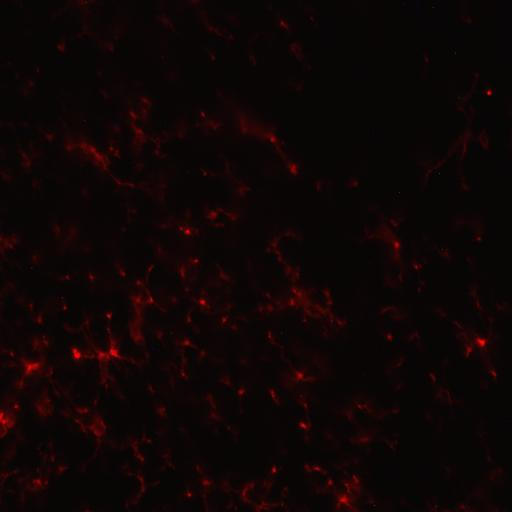microglia: (420, 118, 474, 183), (333, 391, 395, 445), (196, 152, 254, 195), (394, 240, 448, 277), (352, 120, 385, 154), (371, 189, 401, 222), (154, 12, 183, 41), (203, 203, 240, 225), (17, 358, 44, 388), (81, 142, 109, 170), (109, 171, 136, 190), (358, 252, 378, 276), (398, 2, 433, 14), (259, 291, 274, 312), (287, 160, 300, 178), (180, 350, 188, 377), (177, 335, 192, 348), (421, 54, 429, 76), (159, 53, 170, 68), (185, 306, 194, 323), (237, 388, 244, 408), (183, 226, 194, 238), (116, 265, 126, 277), (346, 178, 358, 188), (198, 349, 206, 363), (429, 372, 438, 383), (465, 345, 473, 357), (108, 348, 118, 357), (339, 494, 348, 504), (315, 180, 323, 191), (57, 42, 65, 52), (249, 55, 256, 66), (476, 338, 485, 346), (271, 464, 277, 474), (270, 390, 276, 400), (393, 241, 400, 249), (296, 372, 303, 380), (489, 370, 496, 378), (202, 479, 211, 485), (75, 352, 81, 359), (106, 312, 112, 318), (486, 90, 492, 96), (238, 389, 244, 395), (300, 422, 306, 428), (26, 364, 32, 370), (186, 170, 192, 176), (423, 55, 428, 62), (290, 298, 294, 306), (267, 330, 271, 338), (387, 334, 392, 340), (328, 479, 333, 485), (36, 478, 41, 484), (1, 418, 6, 424), (314, 466, 320, 471), (476, 236, 481, 241), (270, 137, 275, 142), (202, 171, 207, 176), (414, 264, 418, 269), (63, 305, 67, 310), (201, 112, 205, 117), (200, 300, 205, 304), (110, 46, 114, 51), (280, 20, 283, 26), (222, 318, 226, 322), (187, 492, 191, 496), (292, 289, 296, 293), (14, 404, 18, 408), (211, 56, 215, 60), (194, 258, 198, 262), (36, 68, 40, 72), (10, 352, 14, 356), (147, 438, 151, 442), (150, 297, 153, 302), (66, 275, 69, 280), (398, 191, 401, 195), (90, 276, 93, 280), (180, 227, 183, 230), (62, 296, 64, 298), (31, 267, 33, 269), (300, 395, 302, 397), (84, 120, 86, 122), (454, 52, 456, 54), (162, 56, 164, 58), (373, 504, 375, 506), (114, 124, 116, 126), (164, 120, 166, 122), (372, 130, 374, 132), (70, 153, 72, 155), (474, 90, 476, 92), (416, 4, 418, 6), (26, 130, 28, 132), (44, 233, 46, 235), (186, 170, 188, 172), (438, 172, 440, 174), (110, 352, 112, 354), (369, 261, 371, 263), (262, 292, 264, 294), (443, 360, 445, 362), (362, 374, 364, 376), (382, 348, 384, 350), (156, 431, 158, 433), (66, 466, 68, 468), (59, 413, 61, 415), (152, 348, 154, 350), (134, 166, 135, 168), (404, 4, 405, 6)
